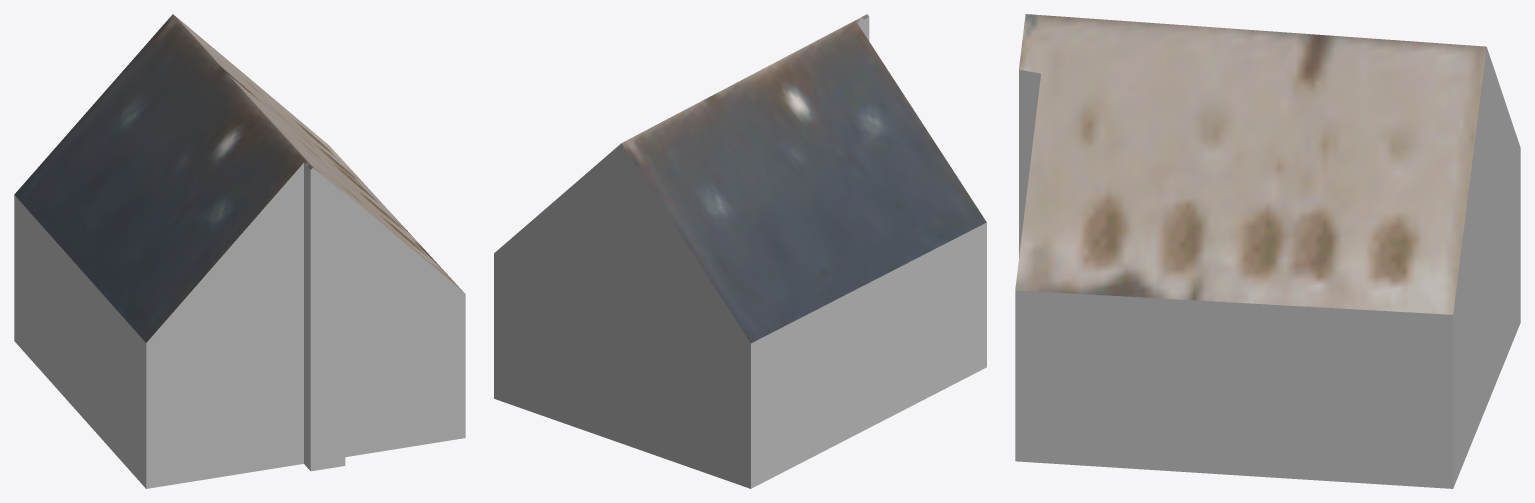
The model's file is DEBW_0010007Tx9K.gltf.
The picture shows the model from 3 angles, left to right: view 1: azimuth 30°, elevation 25°; view 2: azimuth 150°, elevation 25°; view 3: azimuth 270°, elevation 25°; orthographic projection. The views are drawn at different scales.
Visible parts, largest first — view 1: Z_UP; view 2: Z_UP; view 3: Z_UP.
Boxes of the visible parts, <box> form: Z_UP: <box>14,14,465,488</box>; Z_UP: <box>494,14,986,488</box>; Z_UP: <box>1015,14,1520,488</box>.
Bounding box in the file's own units: 16.35 × 13.97 × 17.72.
Materials: 2 (1 with a texture image).
